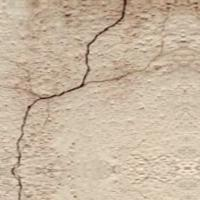crack: (7, 0, 133, 199)
